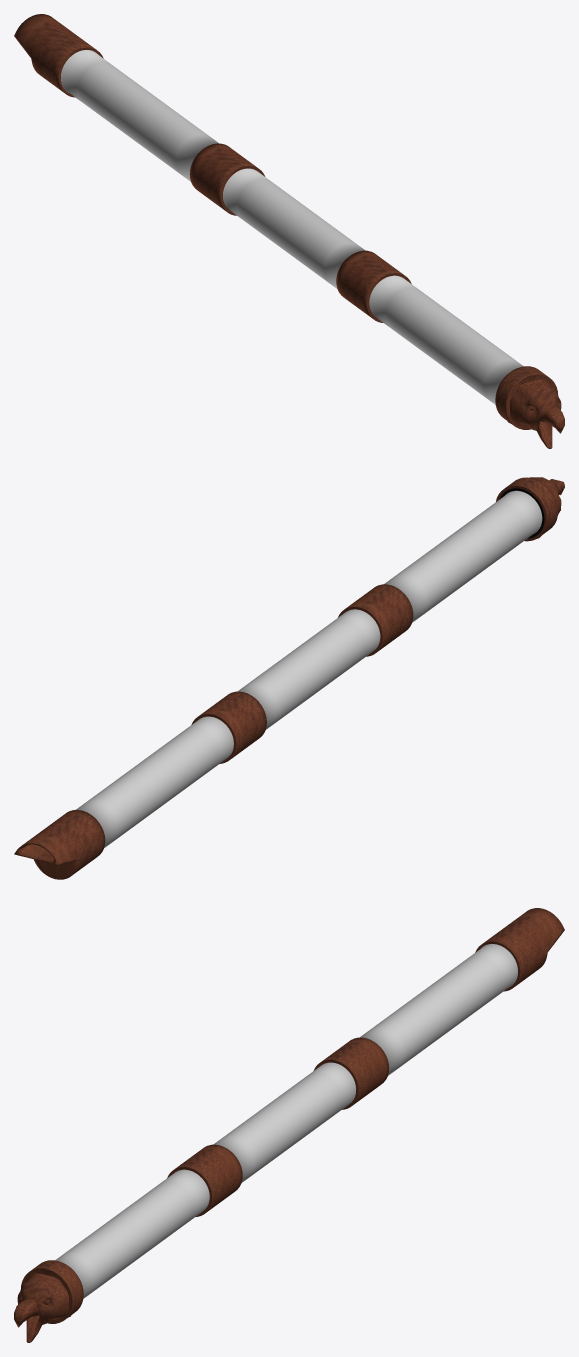
Rendered from Shakashuri.fbx.
3 renders of one model, top to bottom at view 1: azimuth 30°, elevation 25°; view 2: azimuth 150°, elevation 25°; view 3: azimuth 330°, elevation 25°, orthographic.
Parts seen in each view (by area): view 1: Shakashuri; view 2: Shakashuri; view 3: Shakashuri.
Boxes of the visible parts, x1,y1,x2,y2 form: Shakashuri: (14,14,564,448); Shakashuri: (14,477,564,879); Shakashuri: (14,908,564,1342).
Size of the model in its own units: 5.26 by 5.83 by 92.04.
3 materials, 1 textured.
